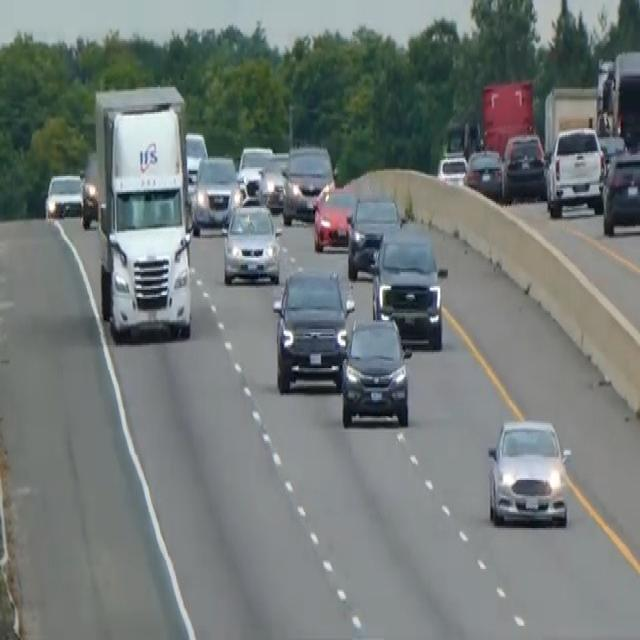car: (272, 265, 354, 393), (486, 414, 572, 528), (371, 224, 447, 348), (339, 313, 412, 428), (545, 123, 605, 217), (221, 199, 281, 285), (346, 192, 402, 279), (281, 142, 334, 224), (192, 153, 239, 231), (600, 148, 639, 235), (501, 130, 547, 201), (312, 182, 357, 252), (236, 142, 273, 198), (464, 146, 503, 199), (44, 170, 83, 218), (258, 151, 288, 210), (183, 128, 208, 194), (79, 151, 99, 228), (436, 149, 467, 187)
lorry: (91, 82, 195, 343)
